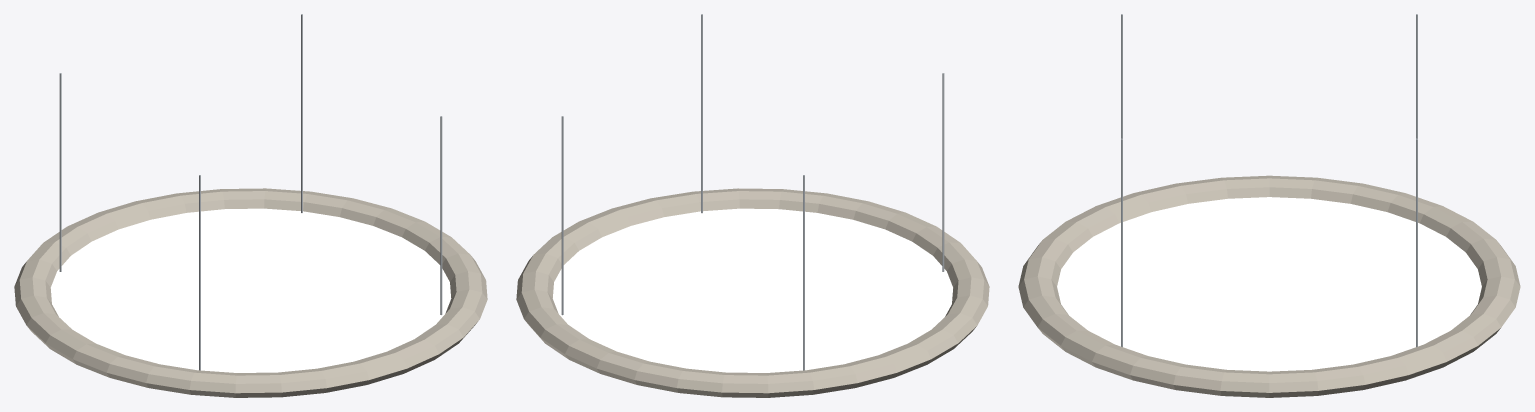
The model's file is cafe_ringlight.glb.
The picture shows the model from 3 angles, left to right: view 1: azimuth 30°, elevation 25°; view 2: azimuth 150°, elevation 25°; view 3: azimuth 270°, elevation 25°; orthographic projection. The views are drawn at different scales.
Visible parts, largest first — view 1: Torus; view 2: Torus; view 3: Torus.
Part boxes in pixels (x1,y1,x2,y2): Torus: (14,14,487,397); Torus: (516,14,989,397); Torus: (1018,14,1520,397).
Bounding box in the file's own units: 6.5 × 3.27 × 6.5.
